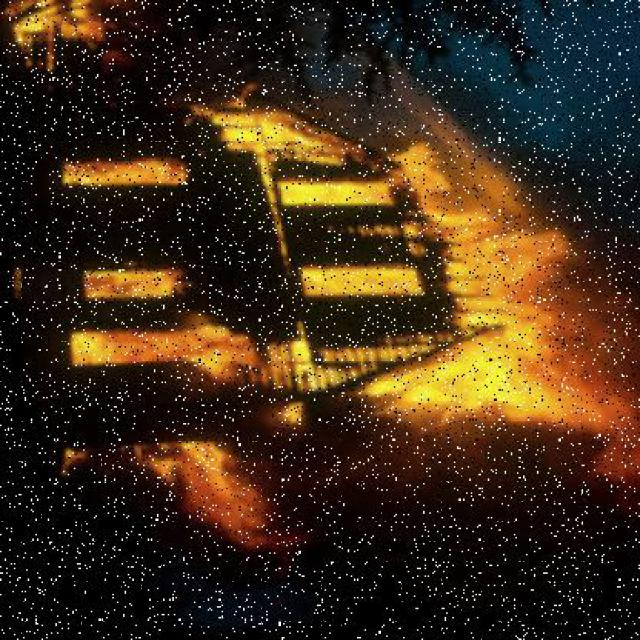fire: (212, 86, 639, 507)
